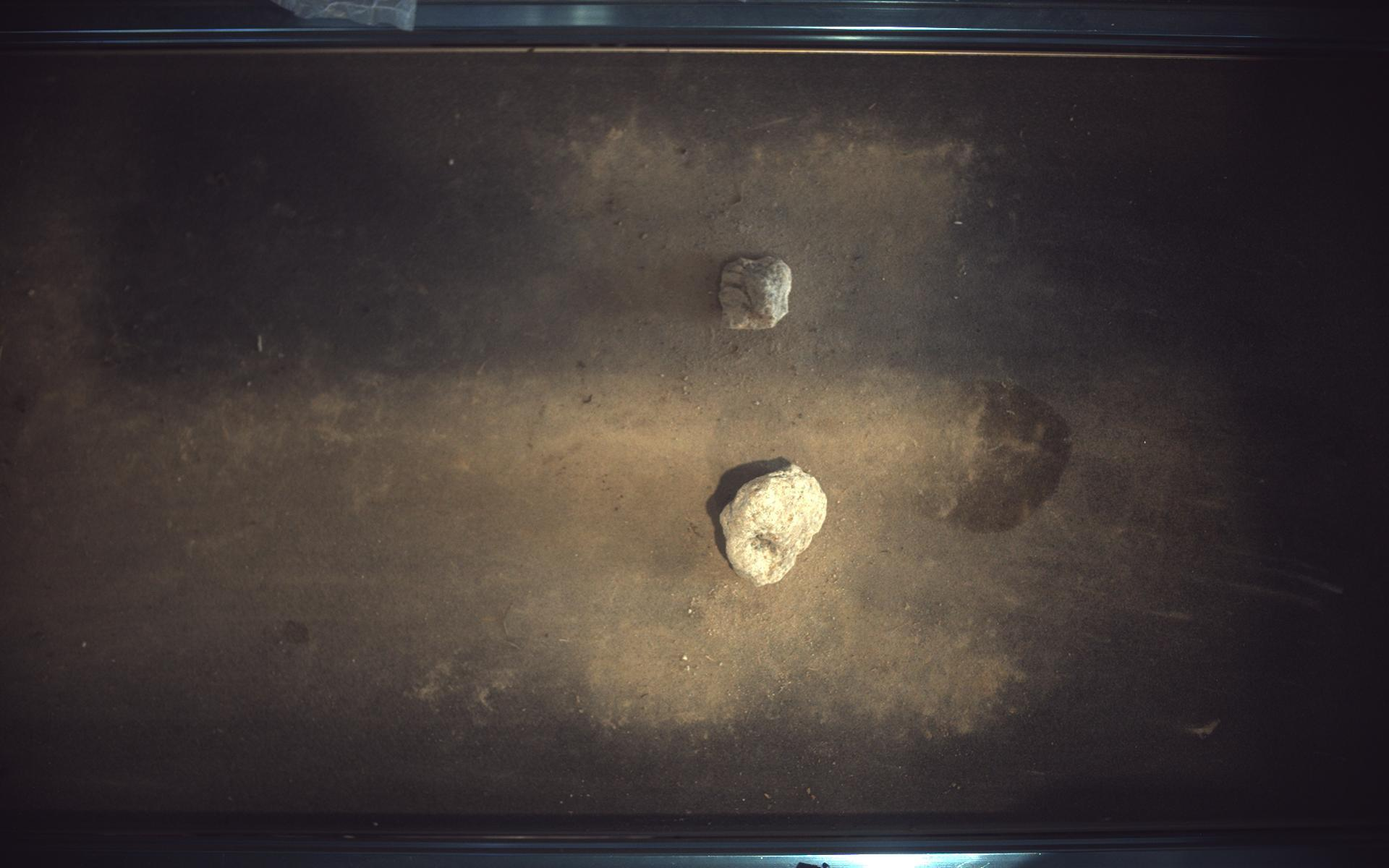stone: (721, 464, 828, 586), (720, 255, 793, 329)
